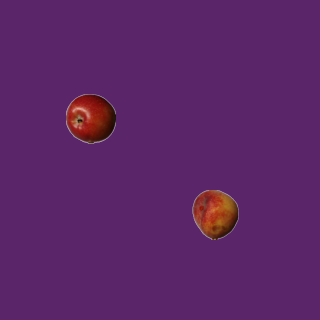Apple Braeburn: (65, 93, 115, 143)
Peach: (190, 189, 240, 239)
